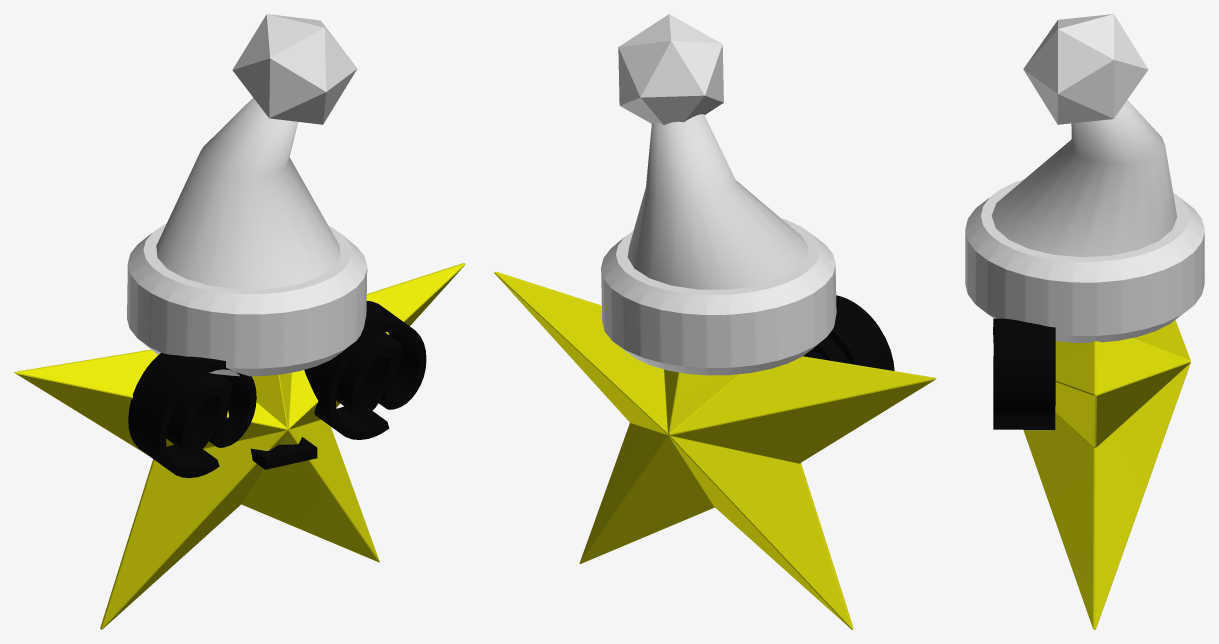
Rendered from Star_Main_Character.fbx.
The picture shows the model from 3 angles, left to right: view 1: azimuth 30°, elevation 25°; view 2: azimuth 150°, elevation 25°; view 3: azimuth 270°, elevation 25°; orthographic projection. The views are drawn at different scales.
Parts seen in each view (by area): view 1: pPlatonic3; view 2: pPlatonic3; view 3: pPlatonic3.
Part boxes in pixels (bbox=[...]): pPlatonic3: bbox=[14, 14, 465, 629]; pPlatonic3: bbox=[494, 14, 936, 629]; pPlatonic3: bbox=[965, 14, 1204, 629].
Size of the model in its own units: 1.89 by 2.27 by 0.8716.
